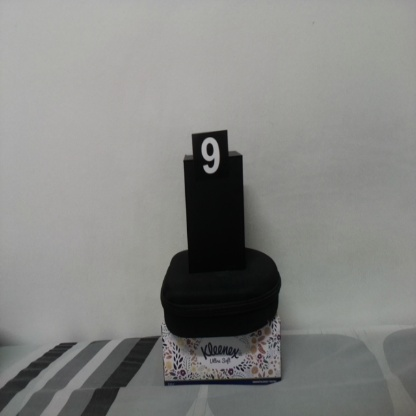id_9: (192, 133, 229, 192)
